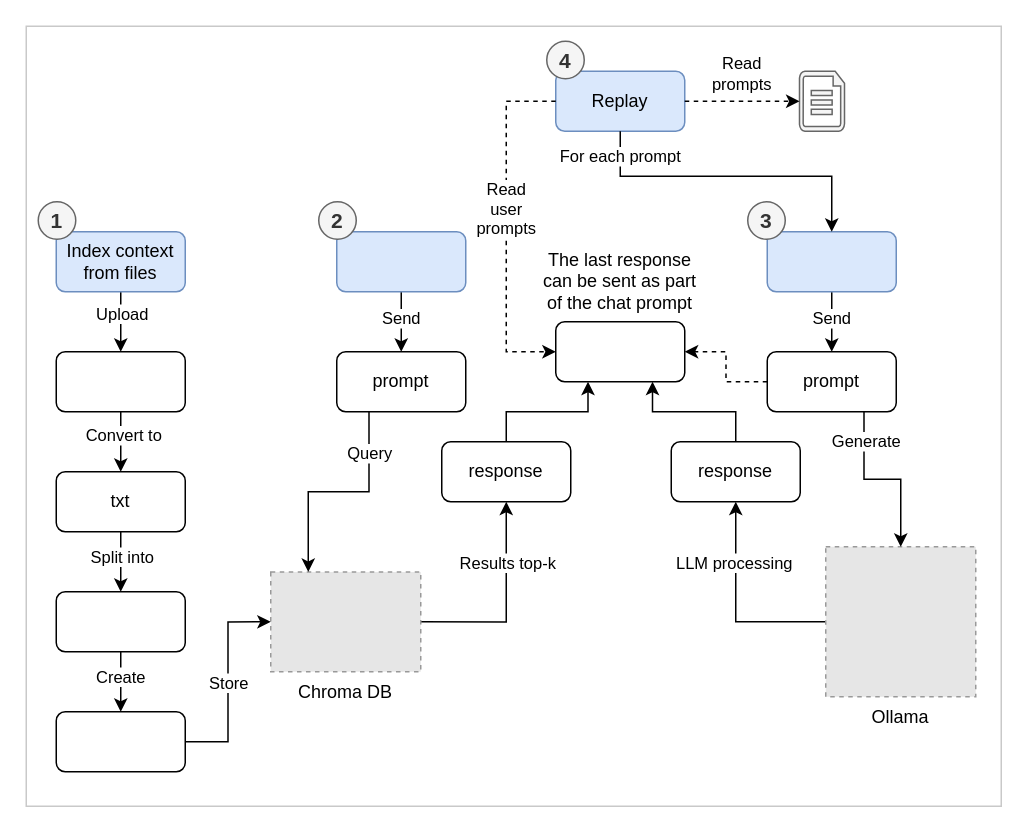
Image size: 1028x833. Some labels were removed from this diagram. Grey dashed boxes stand in for pictures. Each missing label, with the box of its shape:
Chat: (766, 230, 896, 292)
chat history: (554, 320, 685, 382)
chunks: (55, 590, 185, 652)
files: (55, 350, 185, 412)
Get context: (335, 230, 466, 292)
TXT file: (798, 70, 844, 131)
vector embeddings: (55, 710, 185, 772)
